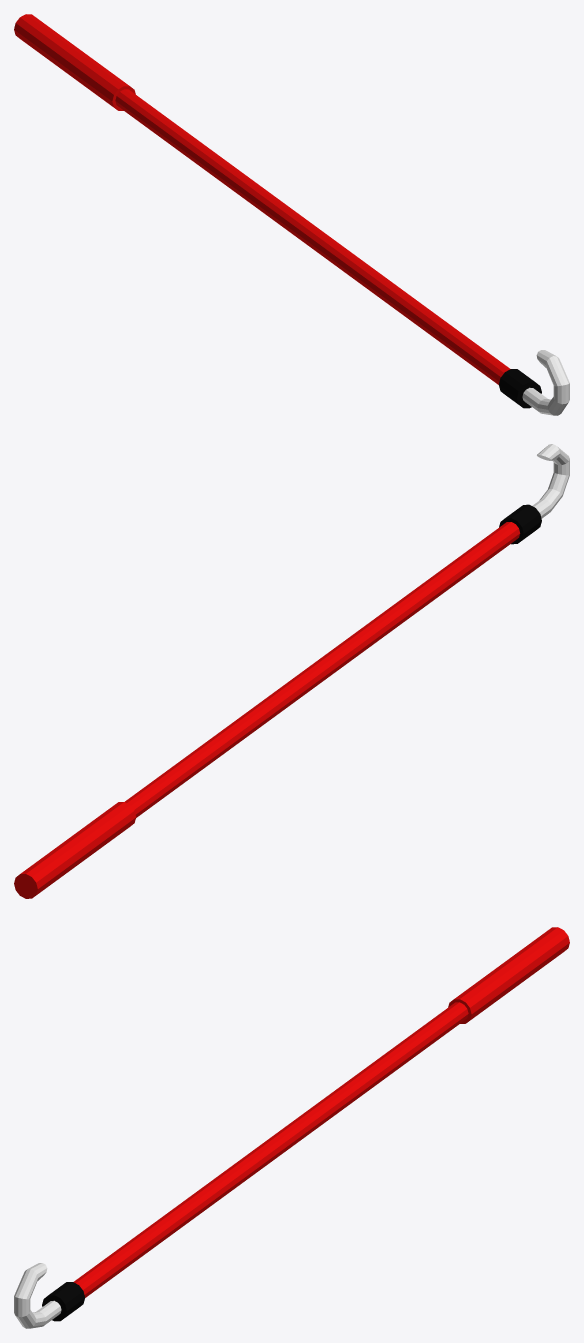
File: er coso pe a scala.fbx
The picture shows the model from 3 angles, top to bottom: view 1: azimuth 30°, elevation 25°; view 2: azimuth 150°, elevation 25°; view 3: azimuth 330°, elevation 25°; orthographic projection.
Visible parts, largest first — view 1: Cylinder; view 2: Cylinder; view 3: Cylinder.
Part boxes in pixels (box(x1,y1,x2,y2)): Cylinder: box(14, 14, 569, 415); Cylinder: box(14, 444, 569, 898); Cylinder: box(14, 927, 569, 1328).
Bounding box in the file's own units: 0.0692 × 0.1837 × 2.58.
